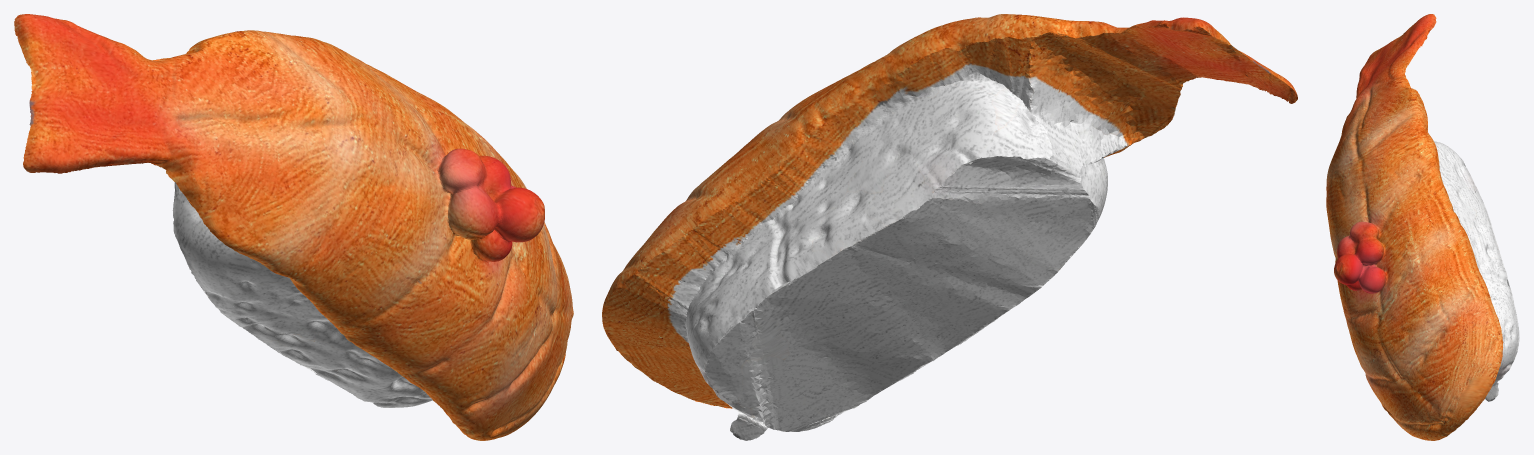
Rendered from asset.glb.
3 views of the same model, side by side, from view 1: azimuth 30°, elevation 25°; view 2: azimuth 150°, elevation 25°; view 3: azimuth 270°, elevation 25° (orthographic). The views are drawn at different scales.
Visible parts, largest first — view 1: node_id3; view 2: node_id3; view 3: node_id3.
Part boxes in pixels (bbox=[...]): node_id3: bbox=[14, 14, 573, 440]; node_id3: bbox=[602, 14, 1297, 440]; node_id3: bbox=[1326, 14, 1519, 440].
Bounding box in the file's own units: 0.5104 × 0.4102 × 0.2463.
Materials: 1 (1 with a texture image).
